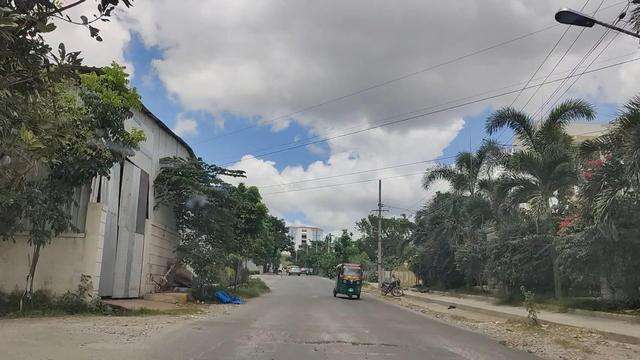RoadDamages: (278, 318, 402, 353), (64, 317, 158, 355)
